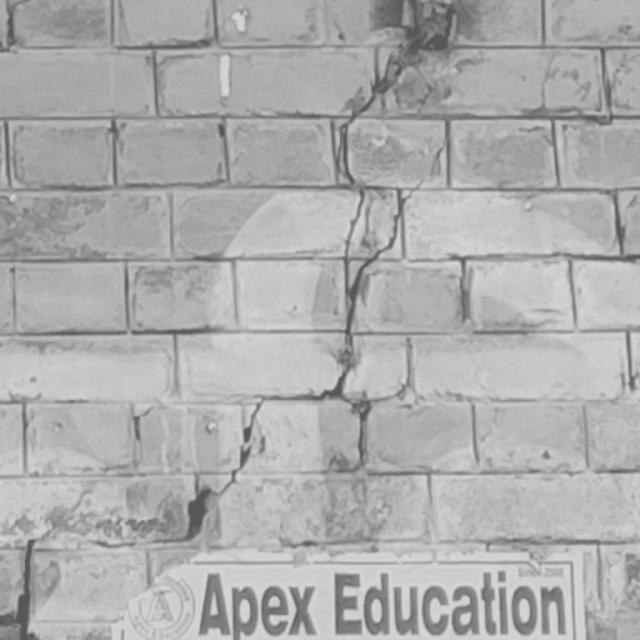crack: (76, 1, 456, 550), (1, 488, 93, 640)
